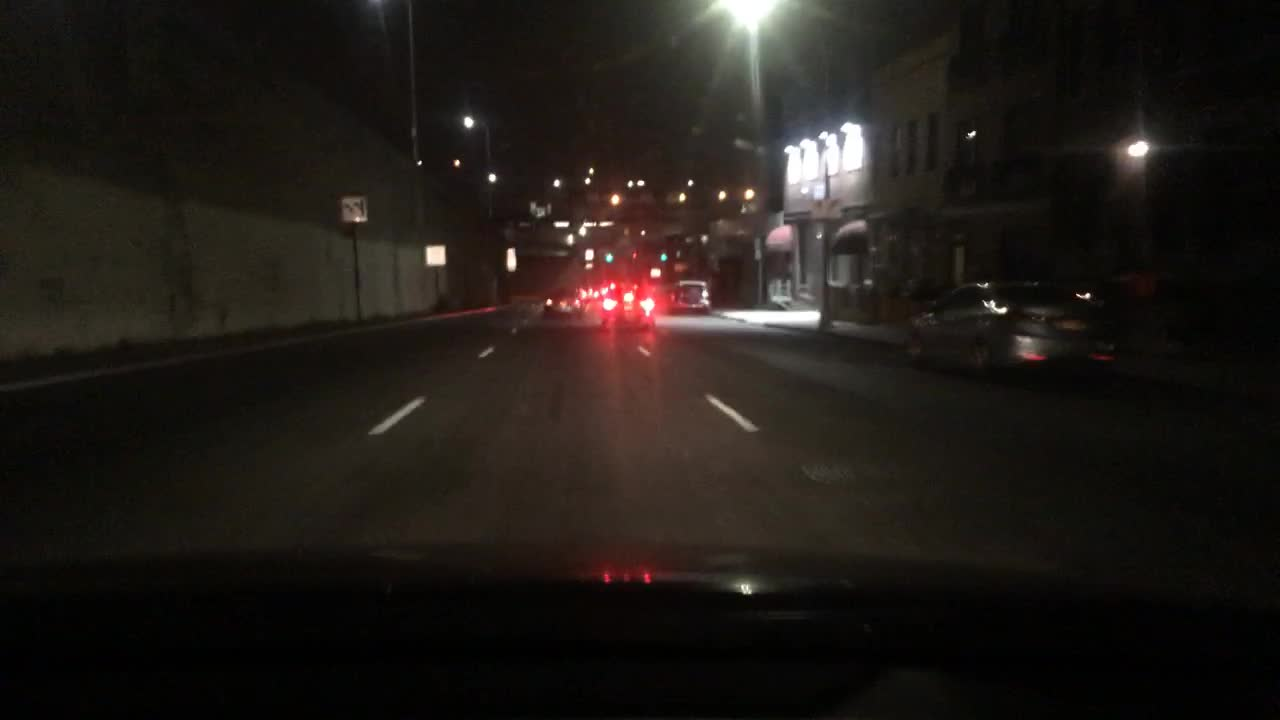car: (899, 283, 1119, 375), (598, 288, 656, 328), (667, 278, 716, 314), (542, 288, 581, 315)
traffic light: (658, 248, 668, 264), (631, 247, 640, 262), (605, 248, 611, 262)
traffic sign: (341, 194, 366, 222)
